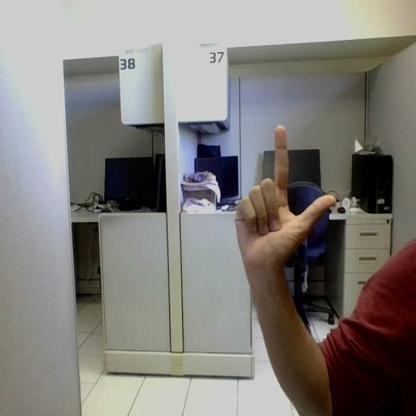L: (236, 124, 335, 266)
